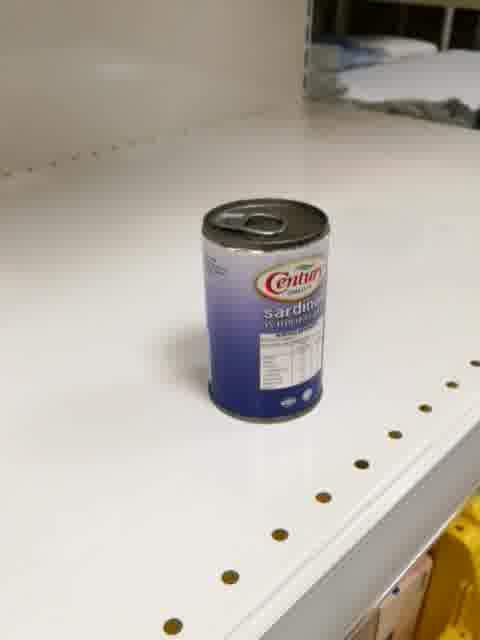sardine: (201, 196, 332, 425)
